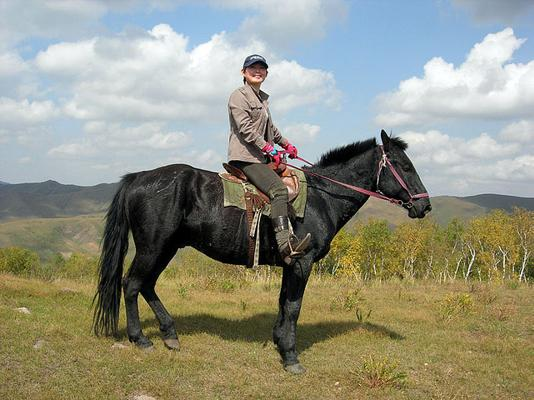person: (228, 53, 314, 265)
